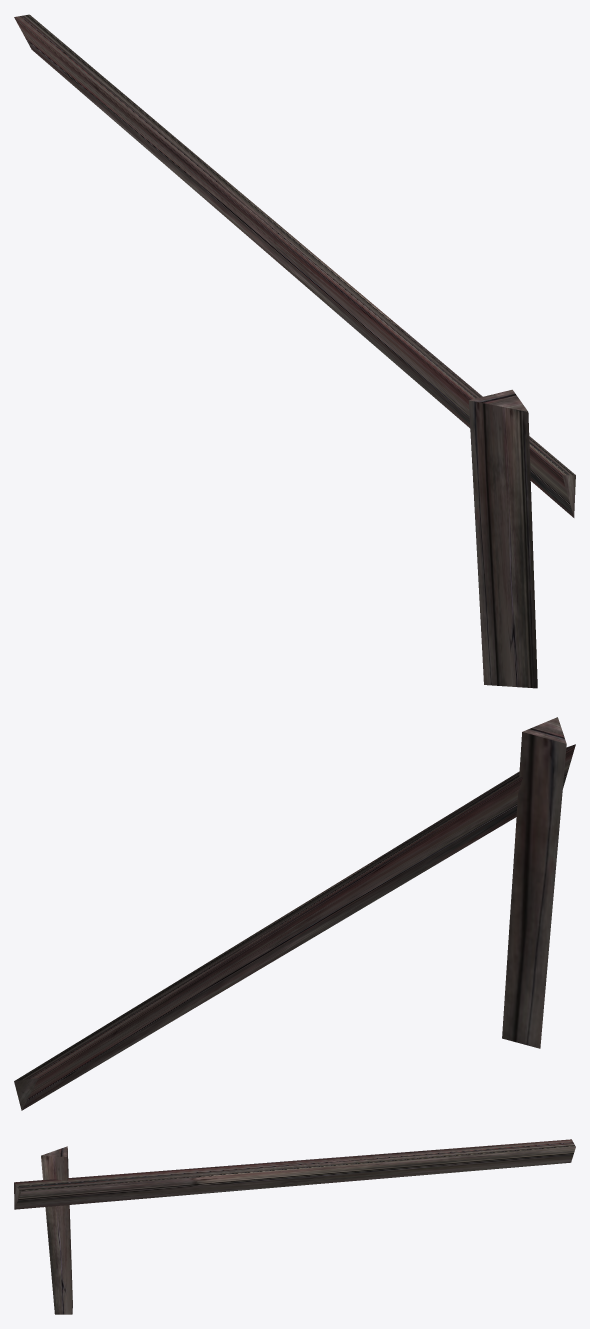
File: pir_m_prp_swm_rail_small.fbx
3 views of the same model, one above another, from view 1: azimuth 30°, elevation 25°; view 2: azimuth 150°, elevation 25°; view 3: azimuth 270°, elevation 25° (orthographic). The views are drawn at different scales.
Visible parts, largest first — view 1: balconypost128, balconypost114; view 2: balconypost128, balconypost114; view 3: balconypost128, balconypost114.
Part boxes in pixels (x1=…): balconypost128: x1=14, y1=14, x2=575, y2=517; balconypost114: x1=468, y1=389, x2=537, y2=688; balconypost128: x1=14, y1=744, x2=575, y2=1110; balconypost114: x1=502, y1=717, x2=566, y2=1048; balconypost128: x1=14, y1=1139, x2=575, y2=1209; balconypost114: x1=41, y1=1146, x2=72, y2=1314.
Size of the model in its own units: 121 by 587 by 1786.
1 material, 1 textured.
